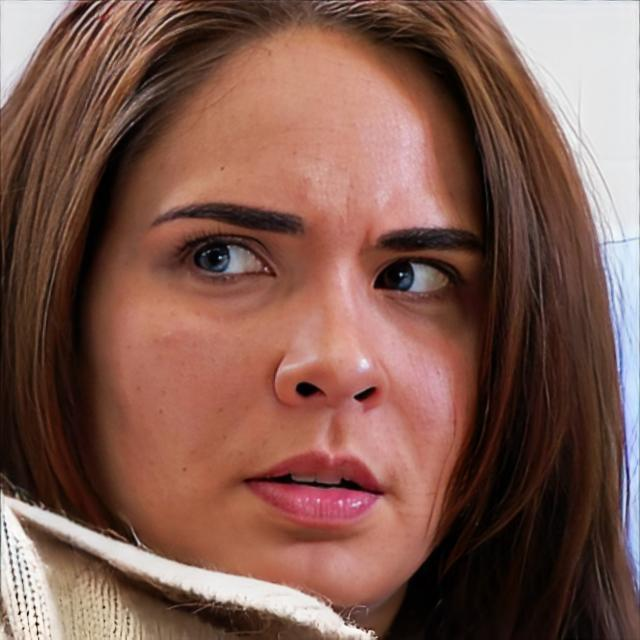disgust: (85, 19, 498, 611)
